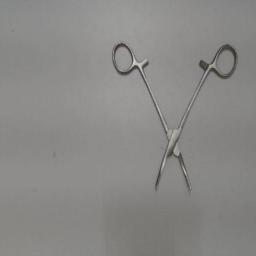Crile Artery Forceps: (105, 35, 239, 197)
